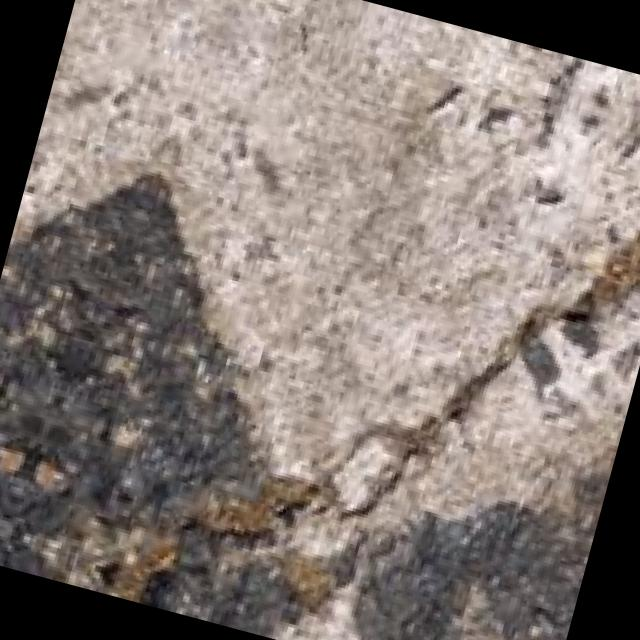crack: (150, 135, 640, 575)
